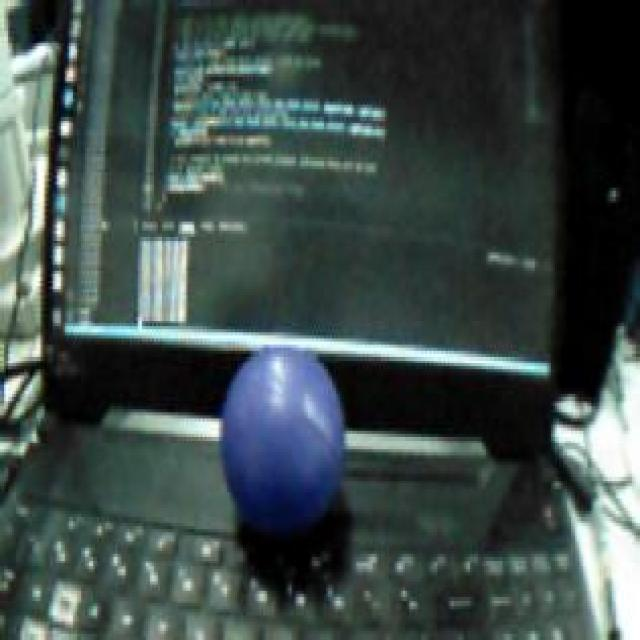BallPurple: (219, 345, 344, 530)
